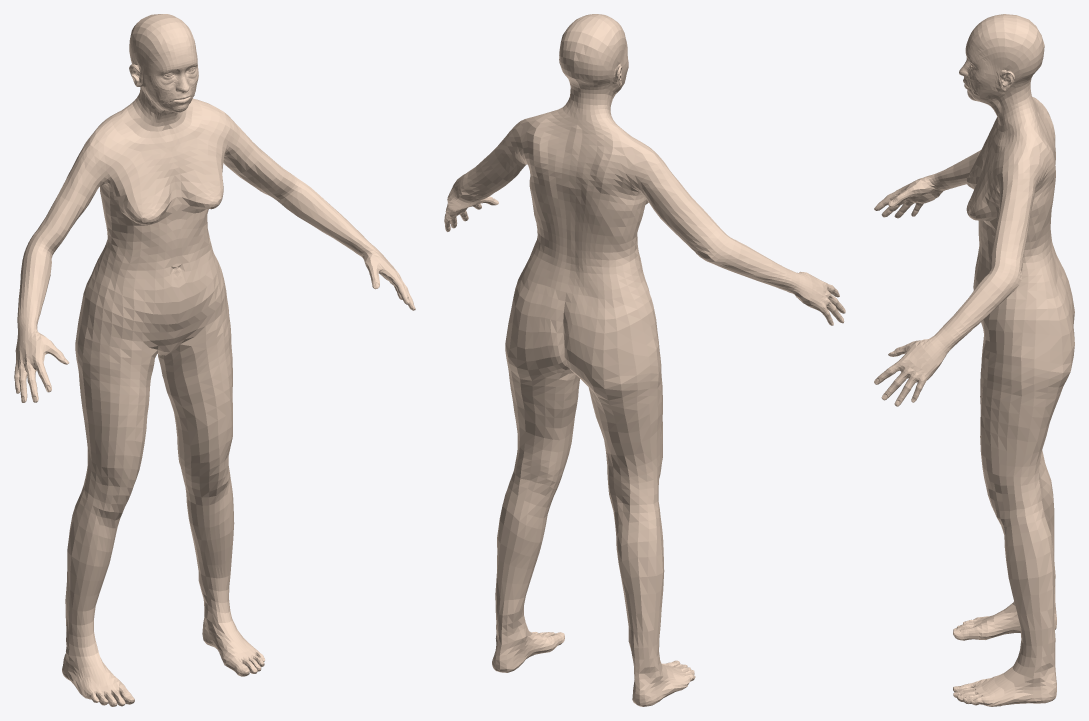
File: female-older-average-low.glb
3 renders of one model, left to right at view 1: azimuth 30°, elevation 25°; view 2: azimuth 150°, elevation 25°; view 3: azimuth 270°, elevation 25°, orthographic.
Visible parts, largest first — view 1: world; view 2: world; view 3: world.
Part boxes in pixels (x1,y1,x2,y2): world: (14, 14, 415, 706); world: (444, 14, 845, 706); world: (874, 14, 1074, 706).
Size of the model in its own units: 1.13 by 1.8 by 0.5045.
